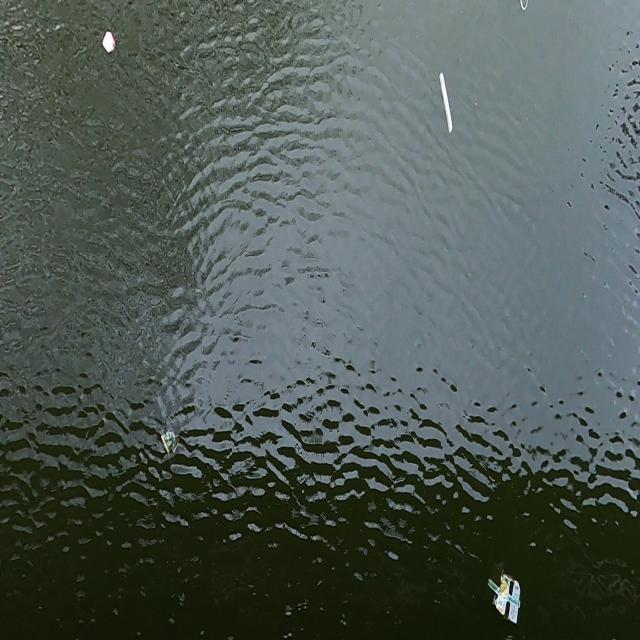Non plastique: (488, 575, 520, 622)
